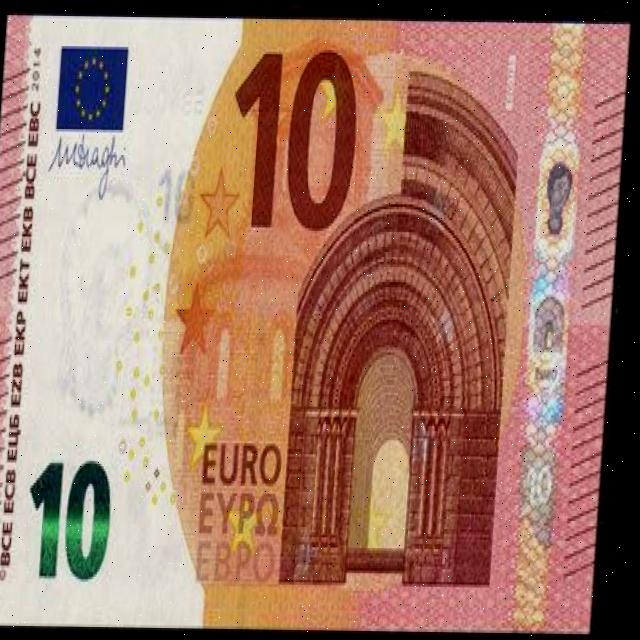banknote: (0, 10, 634, 633), (222, 35, 369, 247), (29, 446, 128, 590)
